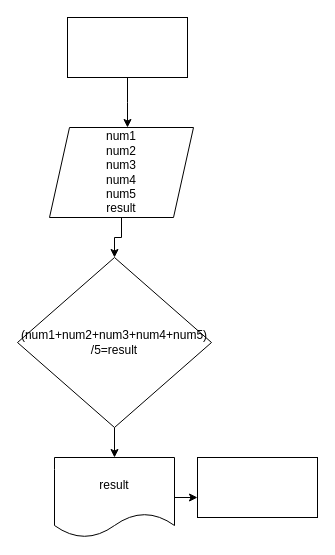
The diagram is 335 pixels wide and 555 high, and some of its shapes have lost their labels. Here are the shapes that lost their labels. From the top down, the centre of each, then its label:
pixel 127 47: start
pixel 257 487: end
